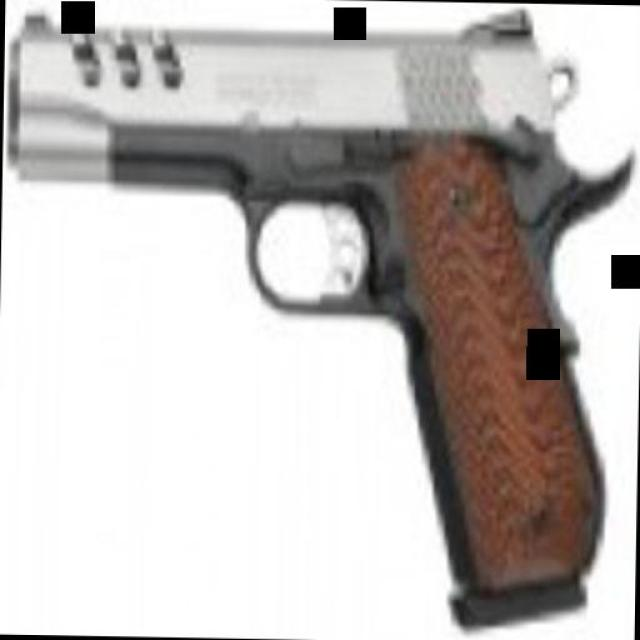gun: (0, 4, 611, 606)
